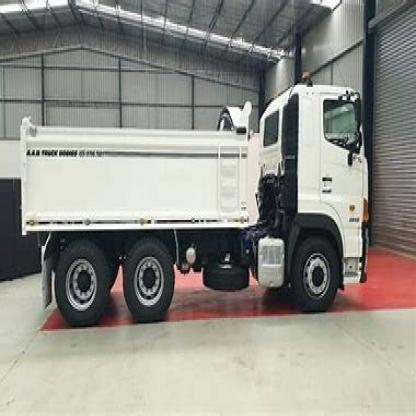dump_truck: (19, 59, 373, 318)
